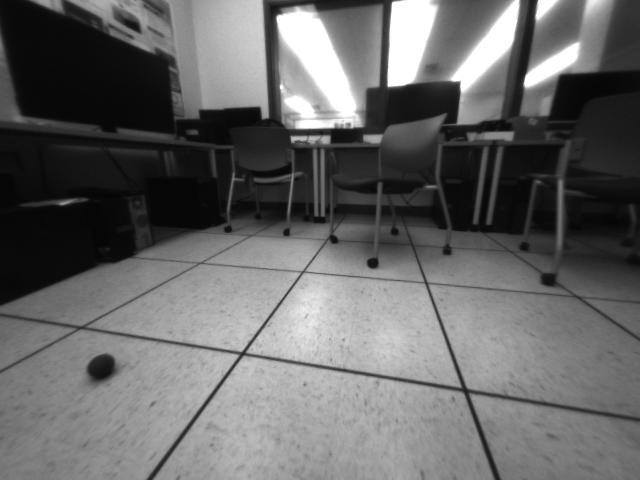dogtoy: (80, 350, 125, 389)
